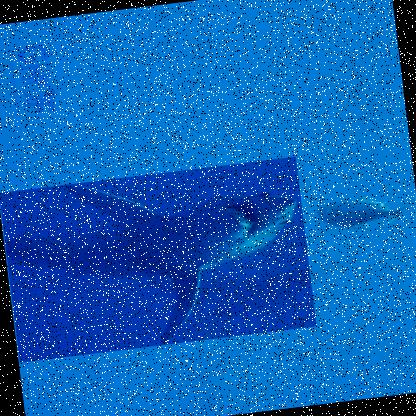mako-shark: (0, 156, 316, 364)
